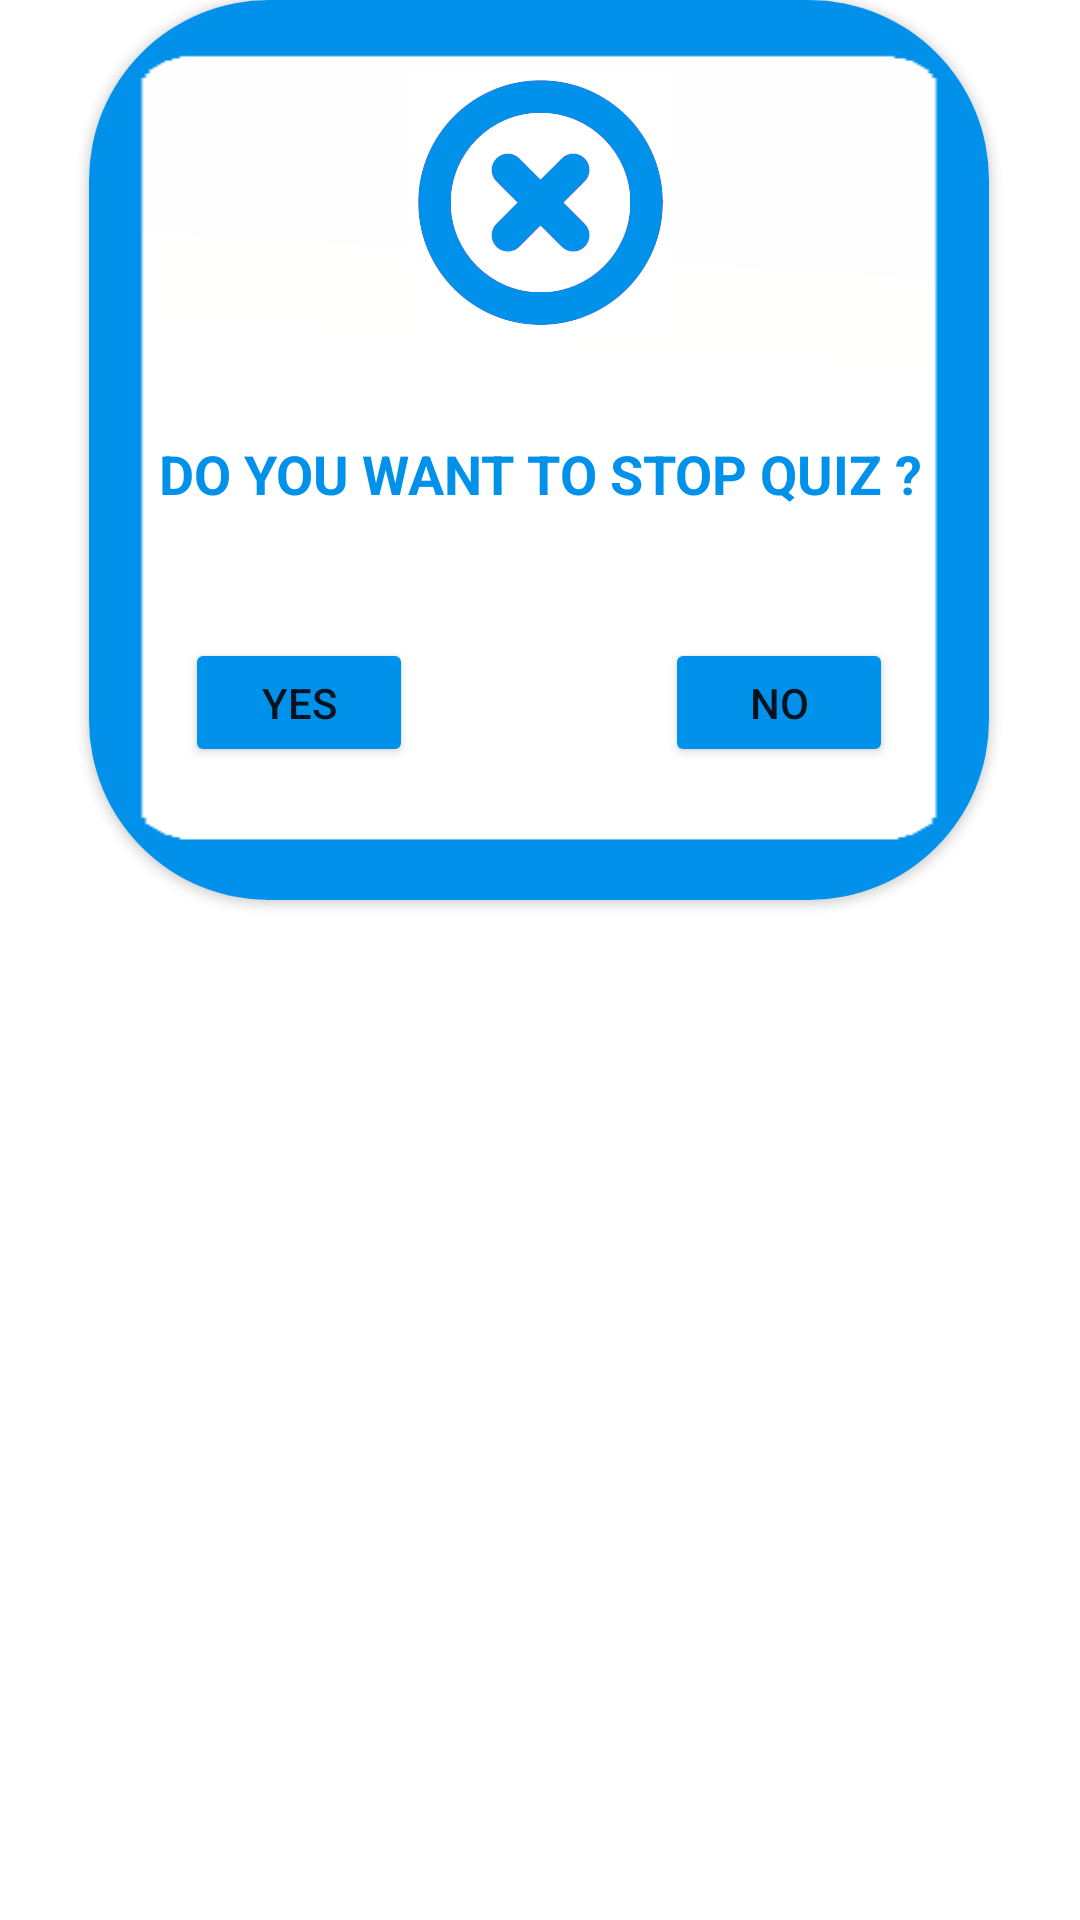

Screen size 1080px x 1920px. Icon name, then its box in pixels as [x1,y1,x2,y2]:
crossimage: [418,80,663,325]
